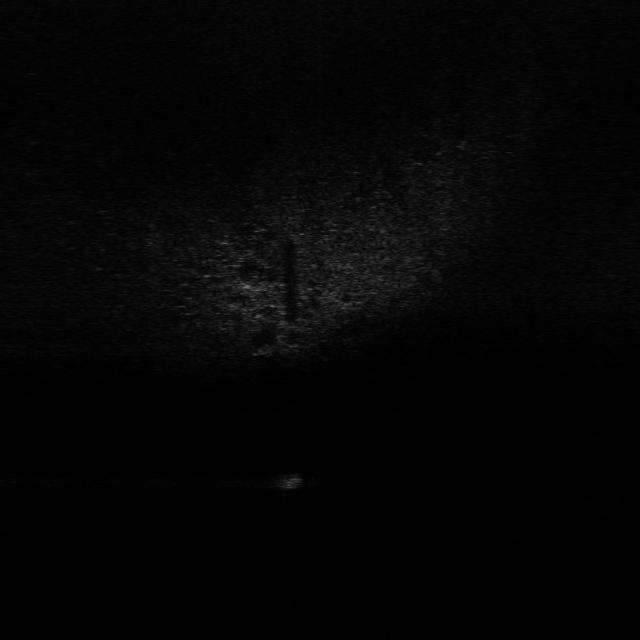cylinder: (276, 474, 306, 494)
